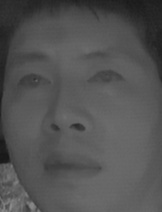eye: (84, 68, 127, 89), (14, 72, 53, 93)
mouth: (39, 144, 103, 185)
